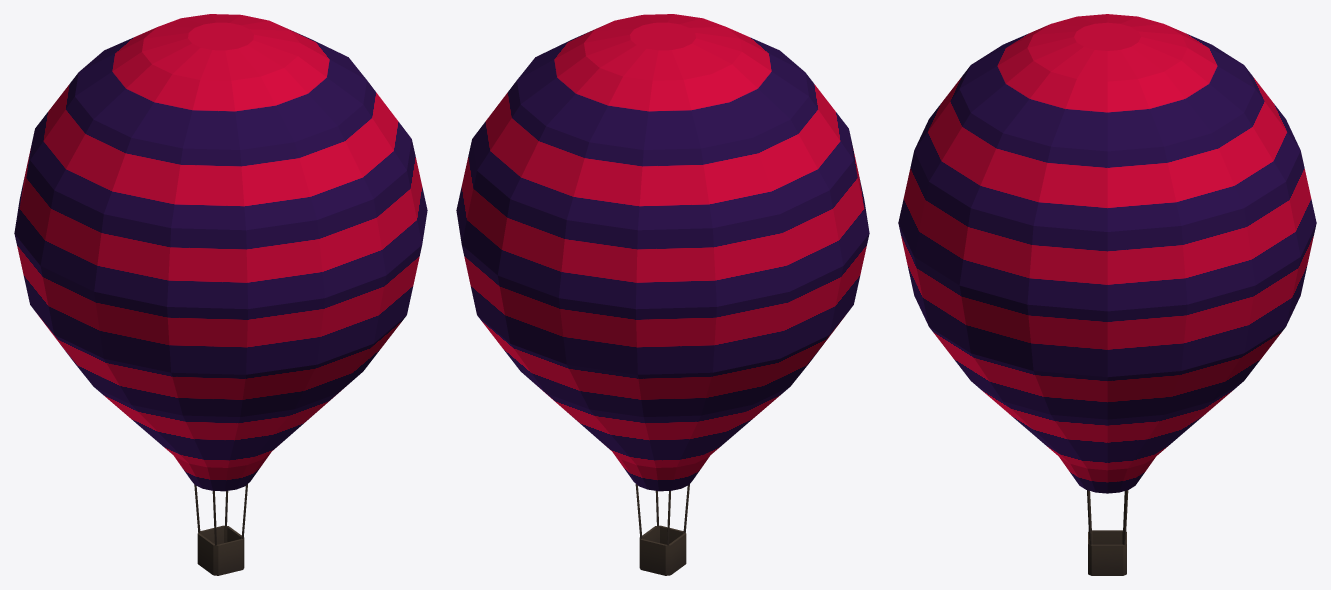
Rendered from prop_baloon_D.FBX.
3 views of the same model, side by side, from view 1: azimuth 30°, elevation 25°; view 2: azimuth 150°, elevation 25°; view 3: azimuth 270°, elevation 25° (orthographic).
Visible parts, largest first — view 1: prop_baloon_D; view 2: prop_baloon_D; view 3: prop_baloon_D.
Boxes of the visible parts, x1,y1,x2,y2 form: prop_baloon_D: [14, 14, 427, 575]; prop_baloon_D: [456, 14, 869, 575]; prop_baloon_D: [898, 14, 1316, 575].
Size of the model in its own units: 591 by 828 by 591.
1 material, 1 textured.
